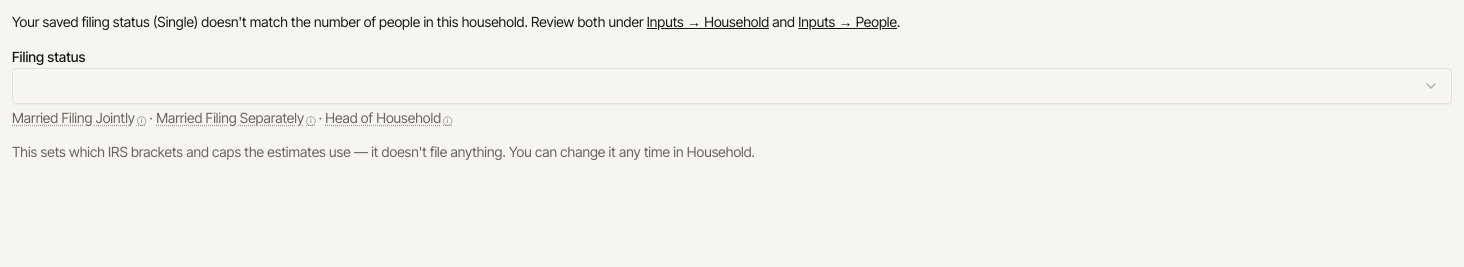
Test: MaritalFilingStep — the filing status select is controlled from its first render (v1.8.0 O3) › the conflict-mode pick logs no switch either
Click the dropdown named "filing status": (1431, 86) [12,68,1452,104]
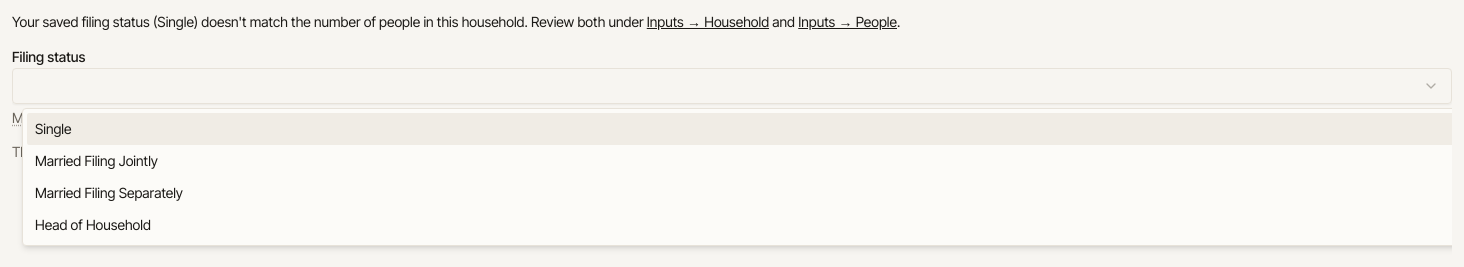
Click the option "Married Filing Jointly": (96, 160) [35,152,158,169]
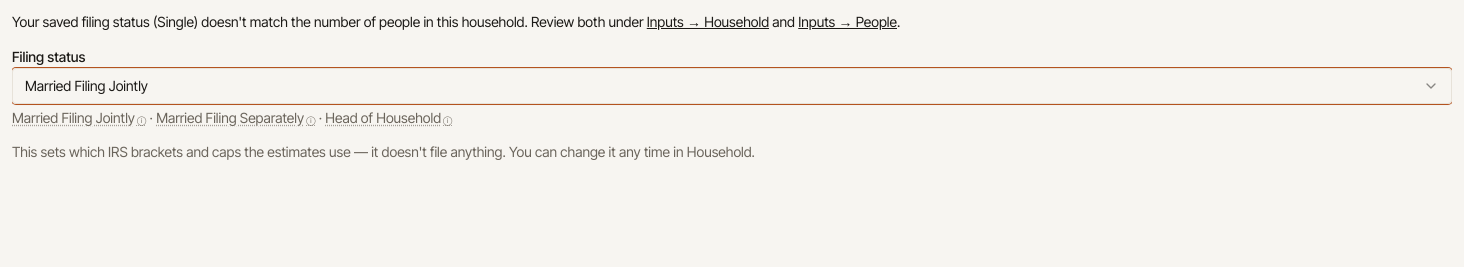
Expected: the dropdown named "filing status" reads "Married Filing Jointly", [12,68,1452,104]
